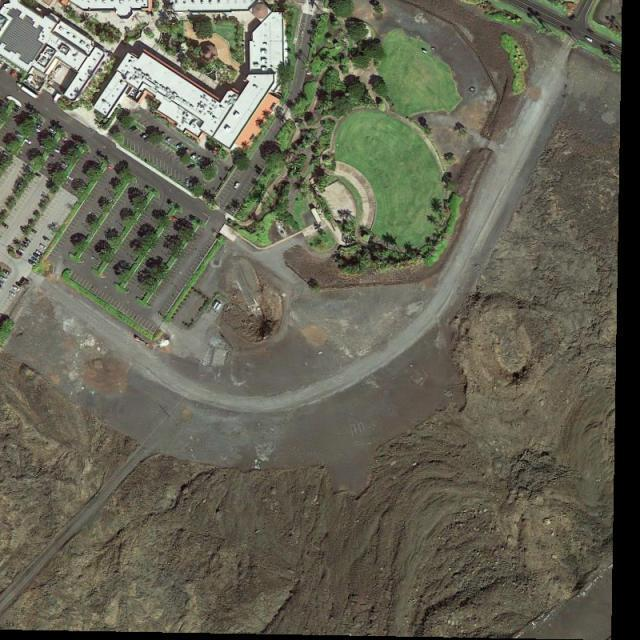vehicle: (34, 249, 45, 257), (2, 150, 11, 159), (54, 93, 62, 103), (27, 259, 37, 266), (33, 253, 42, 260), (188, 165, 197, 172), (170, 216, 179, 223), (585, 36, 594, 43), (15, 132, 24, 139), (33, 127, 42, 134), (9, 290, 16, 298), (39, 243, 47, 250), (3, 269, 11, 276), (22, 240, 30, 247), (66, 175, 74, 182), (60, 135, 68, 142), (234, 182, 241, 190), (2, 222, 10, 229), (52, 147, 60, 154), (35, 123, 43, 130), (24, 138, 32, 145), (39, 145, 49, 150), (19, 247, 26, 254), (1, 276, 8, 283), (142, 133, 149, 140), (4, 66, 11, 73), (49, 154, 56, 161), (43, 237, 51, 243), (190, 154, 198, 160), (608, 42, 616, 48), (34, 172, 42, 178), (50, 128, 58, 134), (129, 126, 137, 132), (176, 144, 185, 149), (185, 178, 190, 187), (25, 238, 32, 244), (31, 257, 38, 263), (16, 250, 23, 256), (31, 228, 38, 234), (196, 155, 203, 161), (1, 63, 7, 70), (62, 162, 69, 168), (12, 108, 19, 114), (13, 286, 21, 291), (165, 138, 173, 143), (21, 244, 27, 250), (1, 60, 5, 69), (15, 282, 22, 287), (214, 146, 218, 154), (9, 245, 14, 251), (1, 280, 5, 286), (1, 289, 2, 293), (1, 284, 2, 288)
